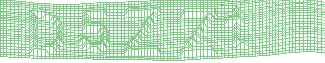5: (77, 7, 110, 55)
D: (29, 9, 63, 57)
Z: (176, 8, 220, 57), (122, 6, 163, 57)
t: (221, 6, 250, 56)
